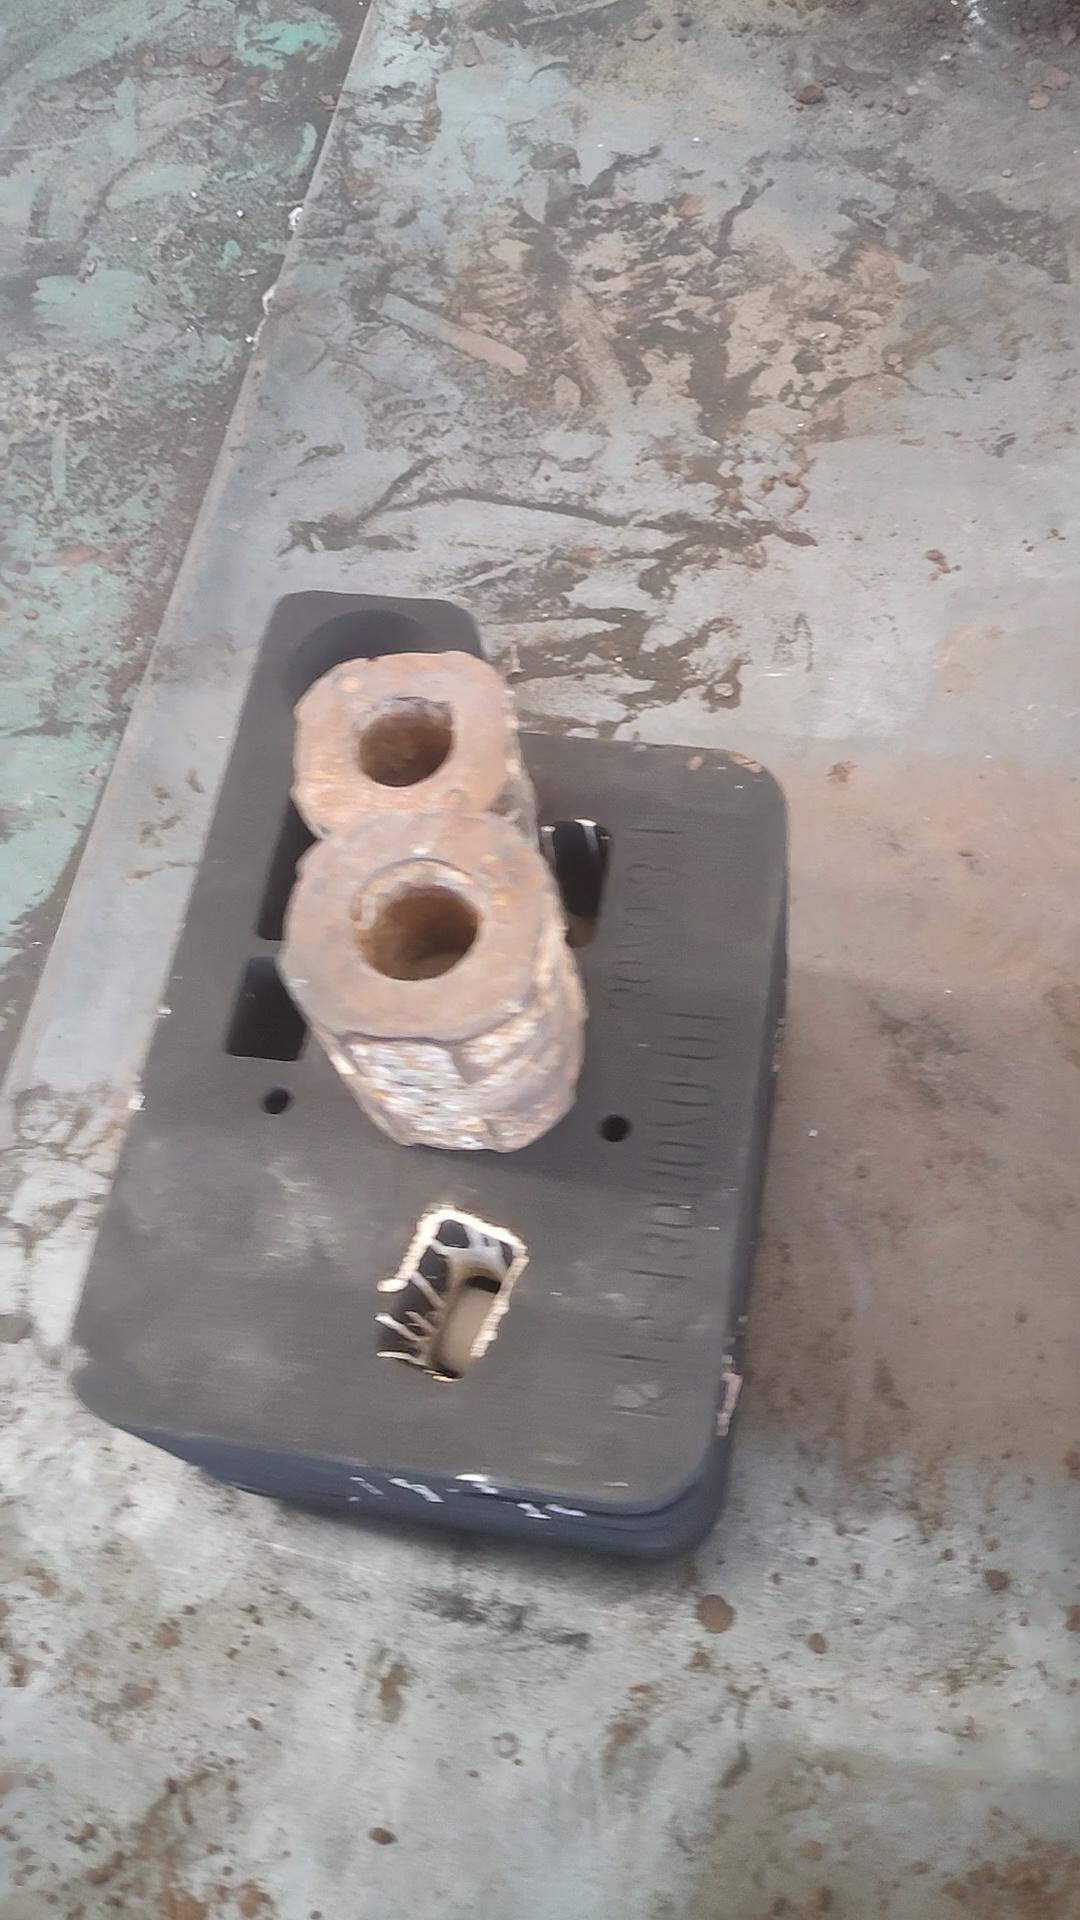pouring hole: (282, 609, 448, 740)
